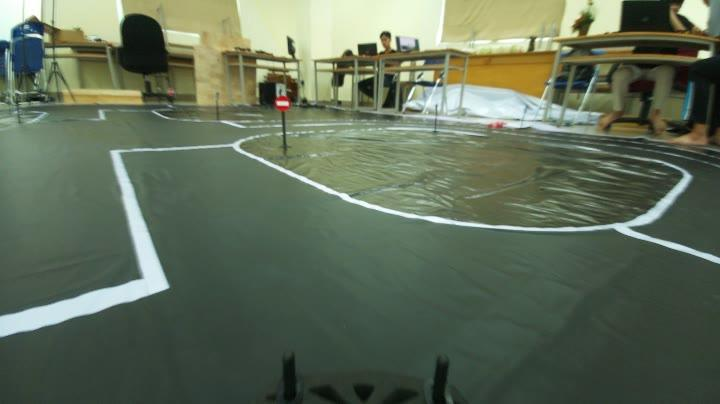no_entry: (270, 92, 294, 116)
